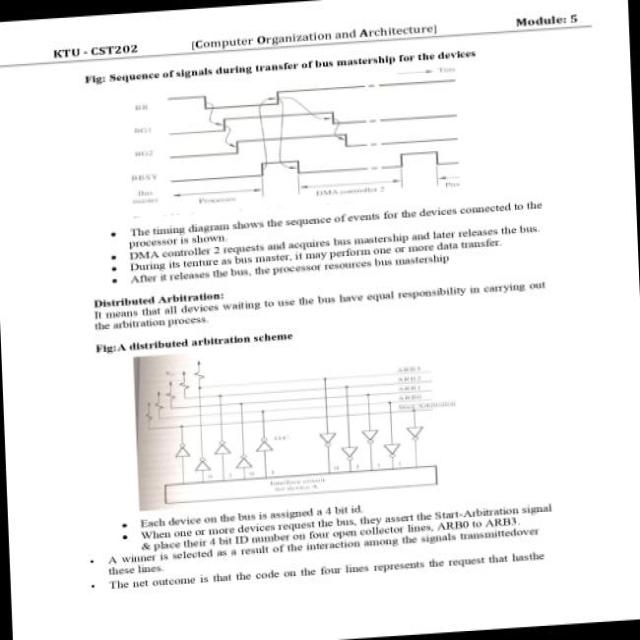Figure Detection - v3 Dataset Version2: (132, 334, 464, 512), (120, 60, 489, 216)
